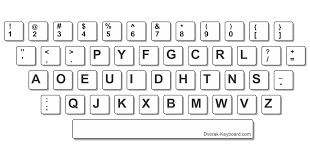keyboard: (5, 4, 308, 147)
